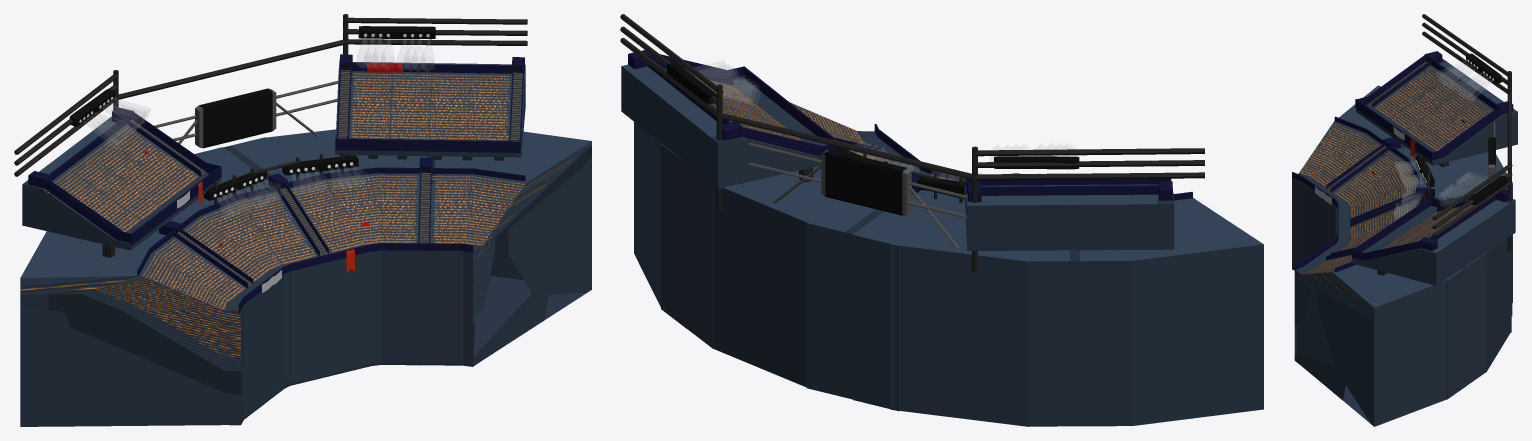
The model's file is Fondo_Fusfus.obj.
3 renders of one model, left to right at view 1: azimuth 30°, elevation 25°; view 2: azimuth 150°, elevation 25°; view 3: azimuth 270°, elevation 25°, orthographic. The views are drawn at different scales.
Visible parts, largest first — view 1: no_grada.009_Cube.036, no_grada.008_Cube.031, no_grada.013_Cube.002, no_grada.017_Cube.042, no_grada.006_Cube.028, no_grada_Cube.007, no_grada.001_Cube.008, no_grada.003_Cube.014, no_grada.002_Cube.013, no_vigas_Cylinder.007, luces.005_Cone.012, no_grada.004_Cube.017 (+18 smaller); view 2: no_grada.009_Cube.036, no_grada.005_Cube.020, no_grada.004_Cube.017, no_grada.017_Cube.042, no_grada.013_Cube.002, no_grada_Cube.007, no_grada.007_Cube.029, no_grada.006_Cube.028, no_grada.001_Cube.008, no_vigas_Cylinder.007, Cylinder.002, no_grada.002_Cube.013 (+11 smaller); view 3: no_grada.008_Cube.031, no_grada.013_Cube.002, no_grada.017_Cube.042, no_grada.002_Cube.013, no_vigas_Cylinder.007, no_grada.004_Cube.017, luces.005_Cone.012, no_grada.005_Cube.020, no_grada.009_Cube.036, no_grada.006_Cube.028, no_grada.003_Cube.014, no_grada.007_Cube.029 (+17 smaller).
Part boxes in pixels (x1,y1,x2,y2): no_grada.009_Cube.036: (20, 231, 243, 426); no_grada.008_Cube.031: (461, 131, 591, 366); no_grada.013_Cube.002: (22, 116, 221, 250); no_grada.017_Cube.042: (335, 62, 525, 157); no_grada.006_Cube.028: (48, 230, 264, 419); no_grada_Cube.007: (194, 147, 332, 385); no_grada.001_Cube.008: (224, 137, 371, 375); no_grada.003_Cube.014: (377, 153, 426, 365); no_grada.002_Cube.013: (424, 156, 475, 365); no_vigas_Cylinder.007: (14, 14, 527, 176); luces.005_Cone.012: (84, 35, 434, 217); no_grada.004_Cube.017: (261, 129, 380, 365); no_grada.009_Cube.036: (1131, 198, 1263, 426); no_grada.005_Cube.020: (890, 199, 1029, 426); no_grada.004_Cube.017: (711, 166, 930, 388); no_grada.017_Cube.042: (621, 64, 827, 188); no_grada.013_Cube.002: (964, 184, 1174, 250); no_grada_Cube.007: (852, 190, 959, 411); no_grada.007_Cube.029: (1025, 250, 1079, 426); no_grada.006_Cube.028: (1078, 248, 1133, 426); no_grada.001_Cube.008: (806, 173, 958, 399); no_vigas_Cylinder.007: (620, 14, 1204, 272); Cylinder.002: (748, 143, 966, 247); no_grada.002_Cube.013: (661, 130, 897, 328); no_grada.008_Cube.031: (1294, 263, 1446, 426); no_grada.013_Cube.002: (1356, 58, 1517, 165); no_grada.017_Cube.042: (1352, 199, 1515, 285); no_grada.002_Cube.013: (1296, 254, 1467, 399); no_vigas_Cylinder.007: (1422, 14, 1512, 251); no_grada.004_Cube.017: (1336, 224, 1510, 371); luces.005_Cone.012: (1394, 61, 1494, 220); no_grada.005_Cube.020: (1335, 152, 1512, 302); no_grada.009_Cube.036: (1292, 85, 1382, 270); no_grada.006_Cube.028: (1299, 131, 1403, 261); no_grada.003_Cube.014: (1319, 241, 1486, 384); no_grada.007_Cube.029: (1317, 144, 1417, 249).
Size of the model in its own units: 178 by 75.51 by 76.5.
Materials: 30 (19 with a texture image).
